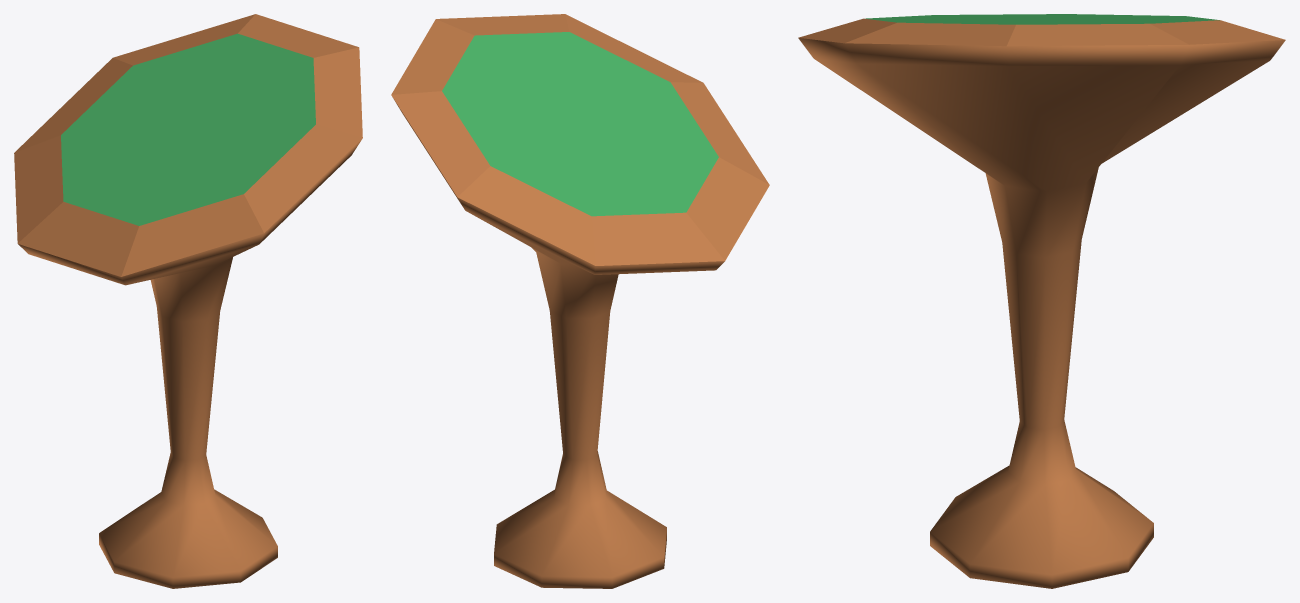
File: lacune.fbx_Stool.fbx
3 renders of one model, left to right at view 1: azimuth 30°, elevation 25°; view 2: azimuth 150°, elevation 25°; view 3: azimuth 270°, elevation 25°, orthographic. The views are drawn at different scales.
Visible parts, largest first — view 1: Stool; view 2: Stool; view 3: Stool.
Boxes of the visible parts, x1,y1,x2,y2 form: Stool: (14,14,362,588); Stool: (391,14,769,588); Stool: (798,14,1285,588).
Size of what is drawn, in the model's own units: 33.31 by 48.39 by 36.26.
